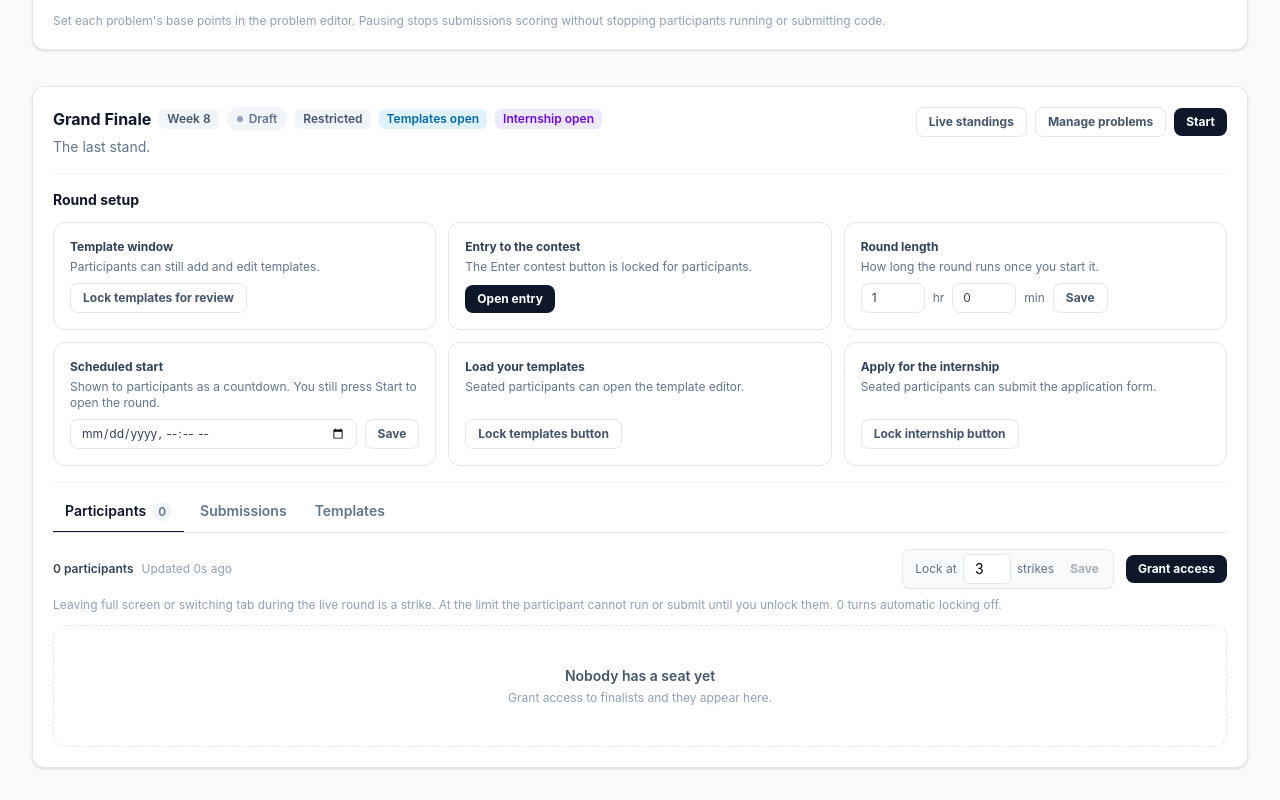
Test case: FinalesPage › surfaces a visible error instead of failing silently when granting access fails
(page scrolled)
Expected: the heading "Grand Finale" is shown, [53,107,151,131]
Click the button "Grant access" at (1176, 569), box [1126,555,1227,583]
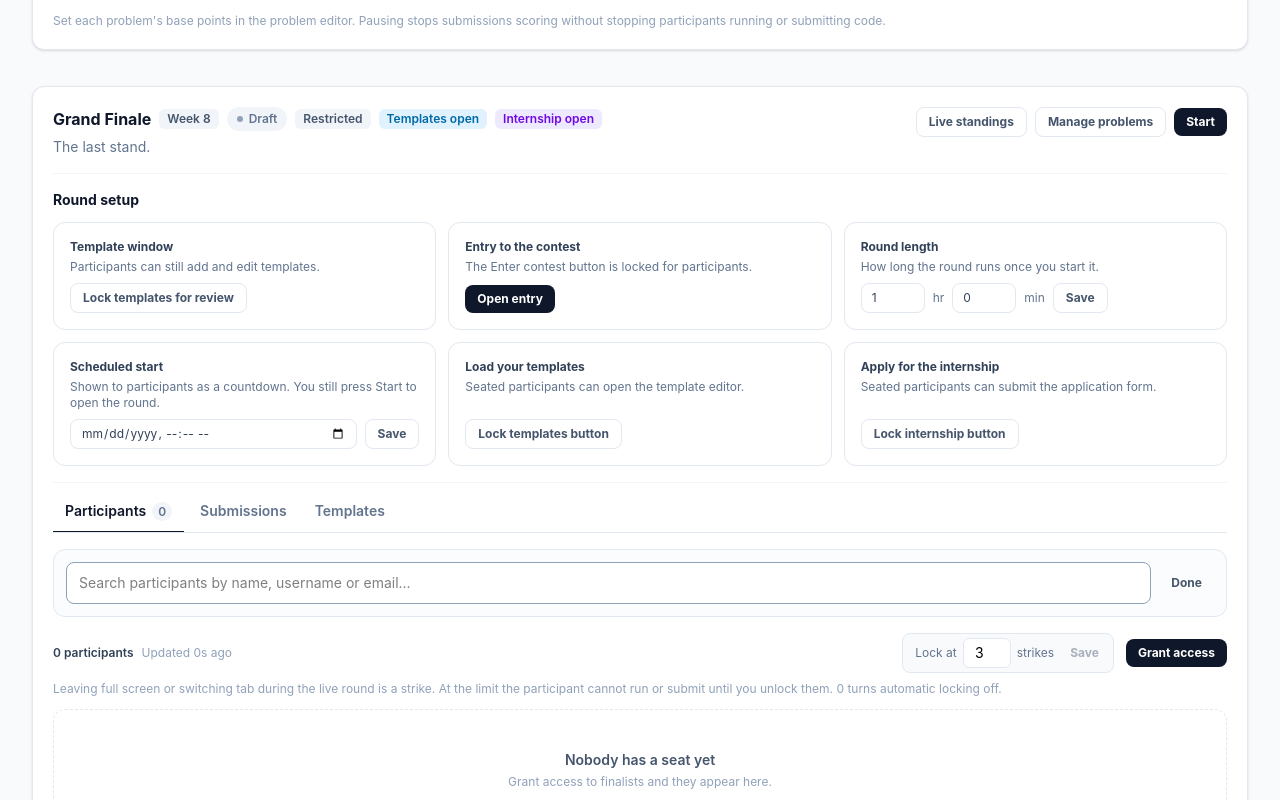
Type "ada" into the field with placeholder "Search participants by name, username or email..." at (609, 583), box [66,562,1151,604]
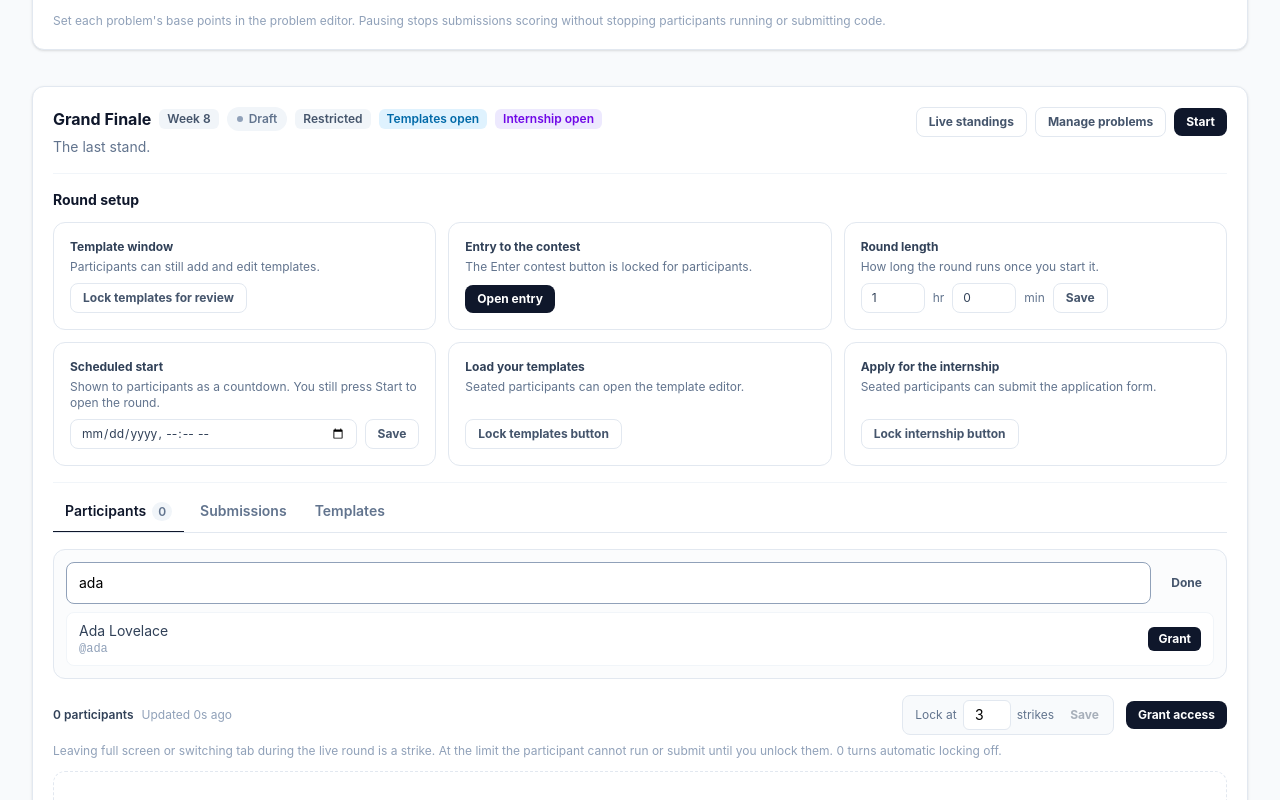
Click the button "Grant" at (1175, 639), box [1148,627,1201,651]
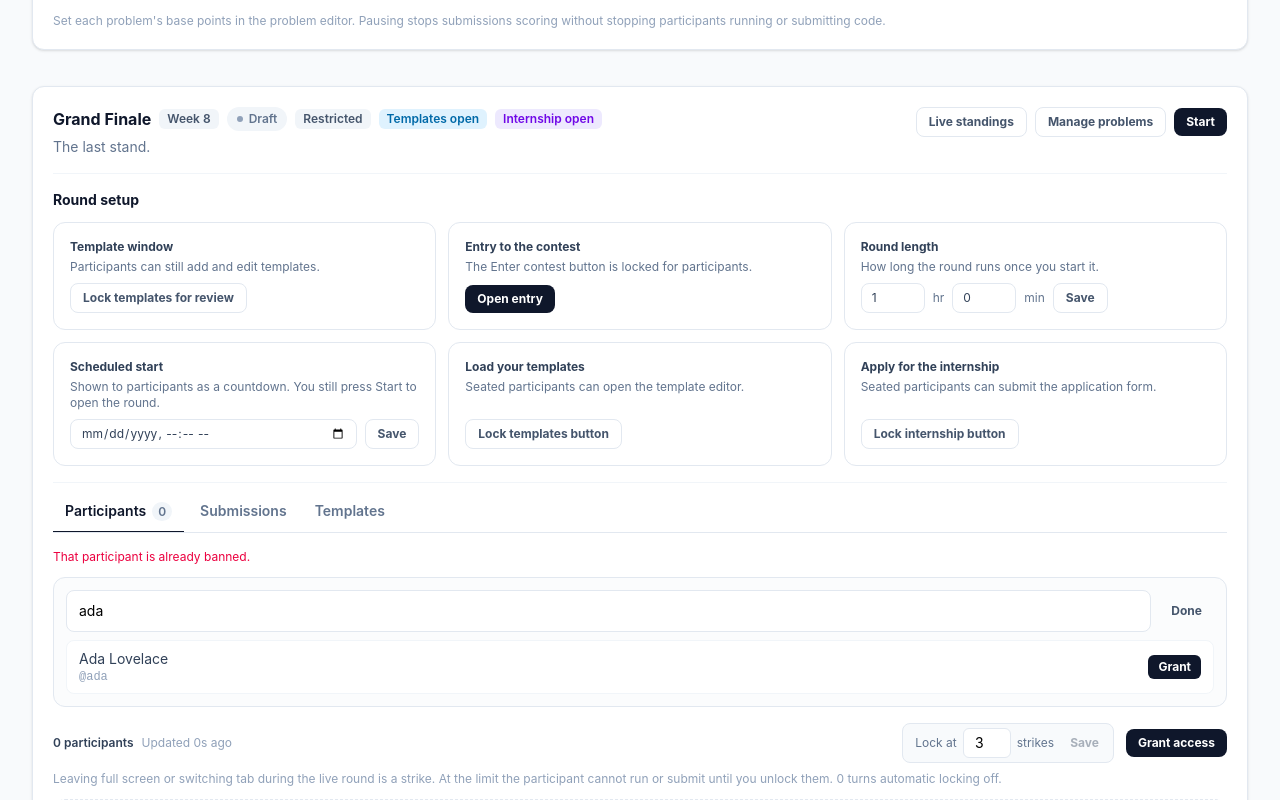
Expected: the message reads "That participant is already banned.", [53,549,250,564]
